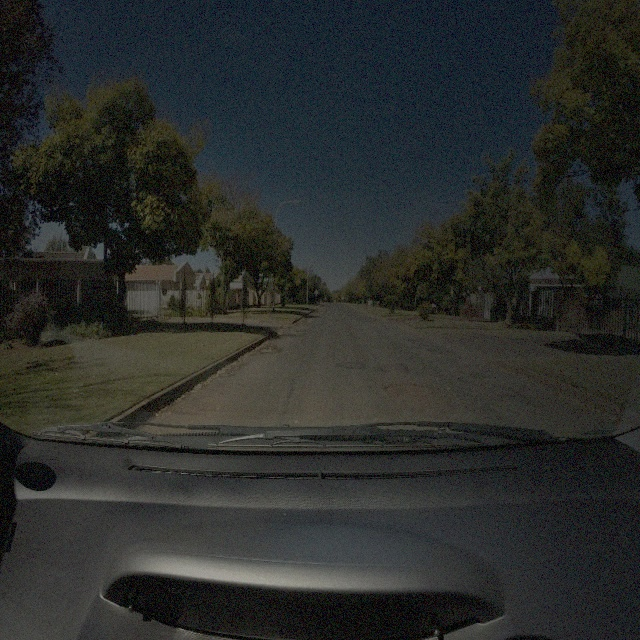pothole: (382, 381, 433, 399), (258, 345, 282, 355)
